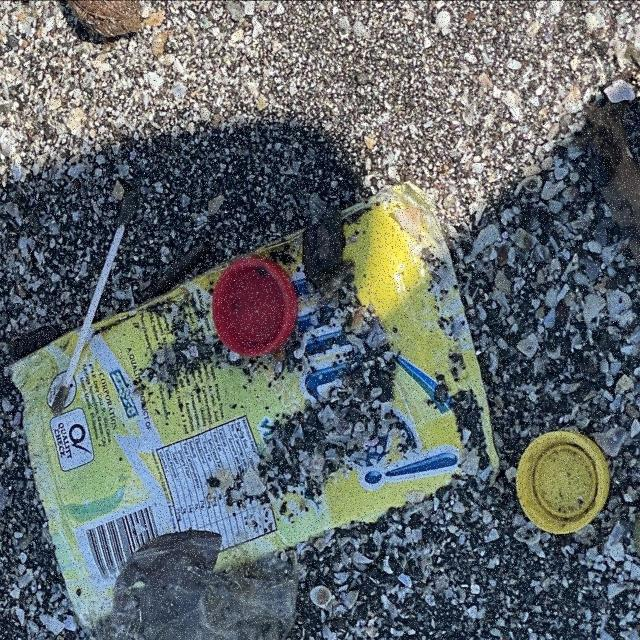plastic_waste: (15, 186, 498, 637), (517, 432, 613, 538), (214, 259, 302, 362)
